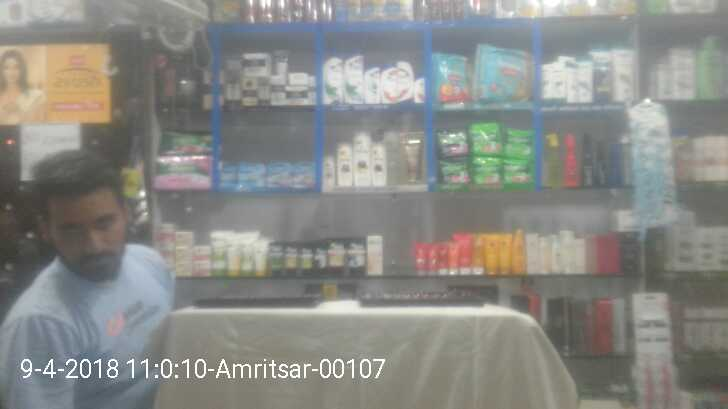venus: (239, 161, 265, 183), (270, 160, 291, 186), (294, 160, 313, 186), (222, 164, 236, 183)
